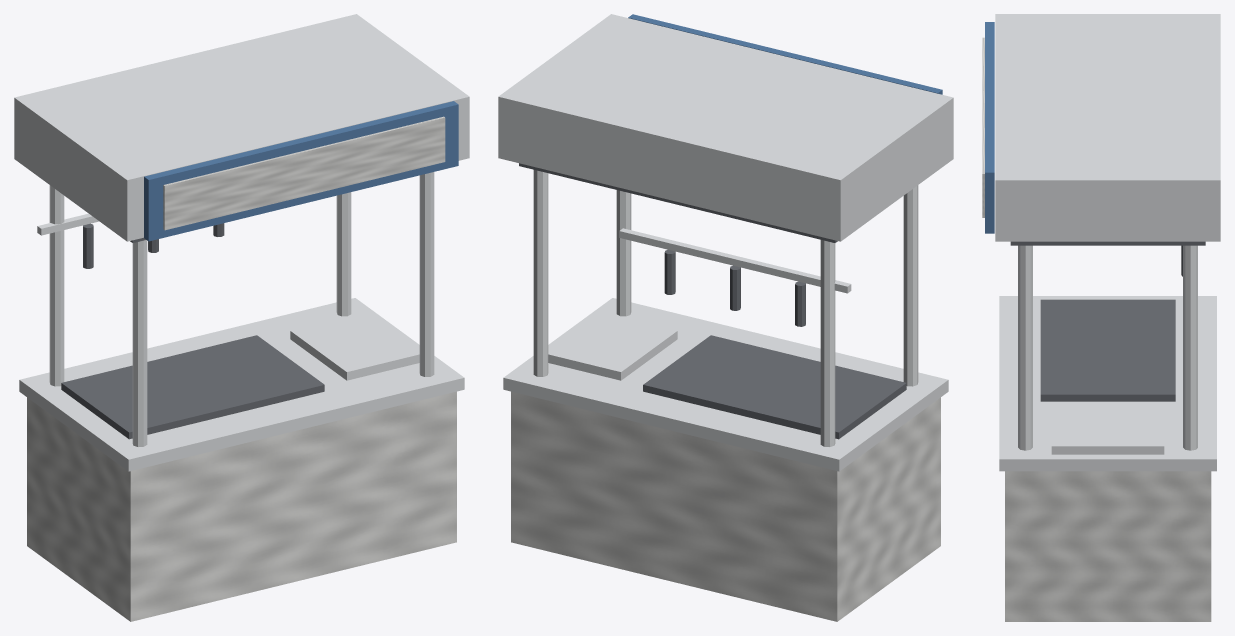
Rendered from cruise-ship-deck-and-lounge-cruise-ship-deck-and-loung-fda46275__38446.glb.
The picture shows the model from 3 angles, left to right: view 1: azimuth 30°, elevation 25°; view 2: azimuth 150°, elevation 25°; view 3: azimuth 270°, elevation 25°; orthographic projection.
Visible parts, largest first — view 1: cruise-ship-deck-and-lounge-food-station; view 2: cruise-ship-deck-and-lounge-food-station; view 3: cruise-ship-deck-and-lounge-food-station.
Boxes of the visible parts, <box> form: cruise-ship-deck-and-lounge-food-station: <box>14,14,469,621</box>; cruise-ship-deck-and-lounge-food-station: <box>498,14,953,621</box>; cruise-ship-deck-and-lounge-food-station: <box>982,14,1220,621</box>.
Bounding box in the file's own units: 2.1 × 2.62 × 1.27.
Materials: 4 (1 with a texture image).
